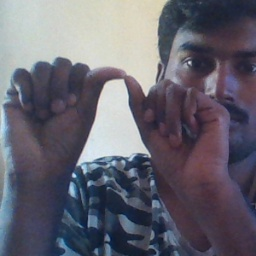A: (28, 58, 195, 168)
